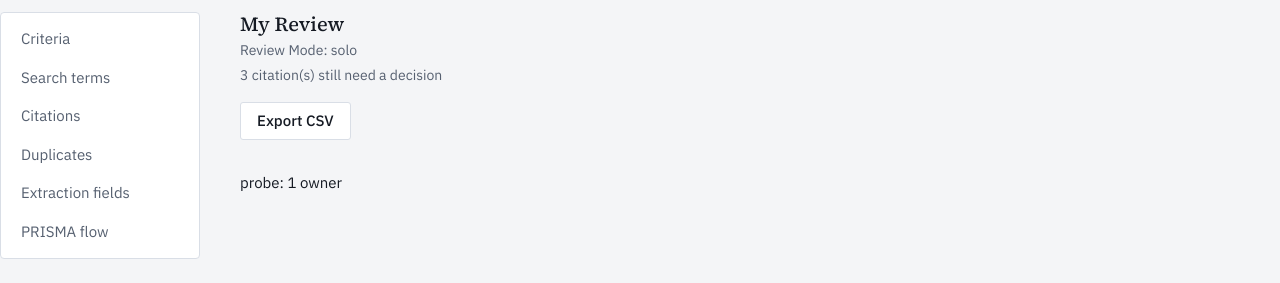
Test case: ProjectShell › shows an alert when the export fails
The width and height of the screenshot is (1280, 283).
What coordinates should you click on to do the following:
click the button "Export CSV"
I would click on:
 (295, 121)
Its box is [240,102,351,140].
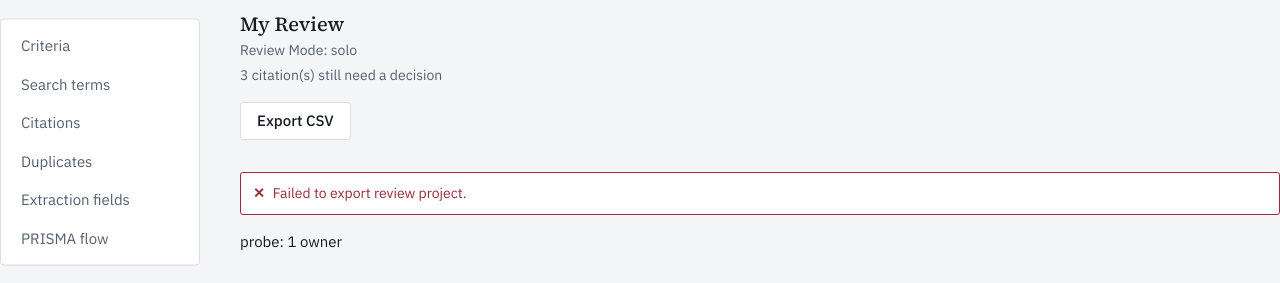
expect the message shows "Failed to export": met, box [273,184,466,202]
